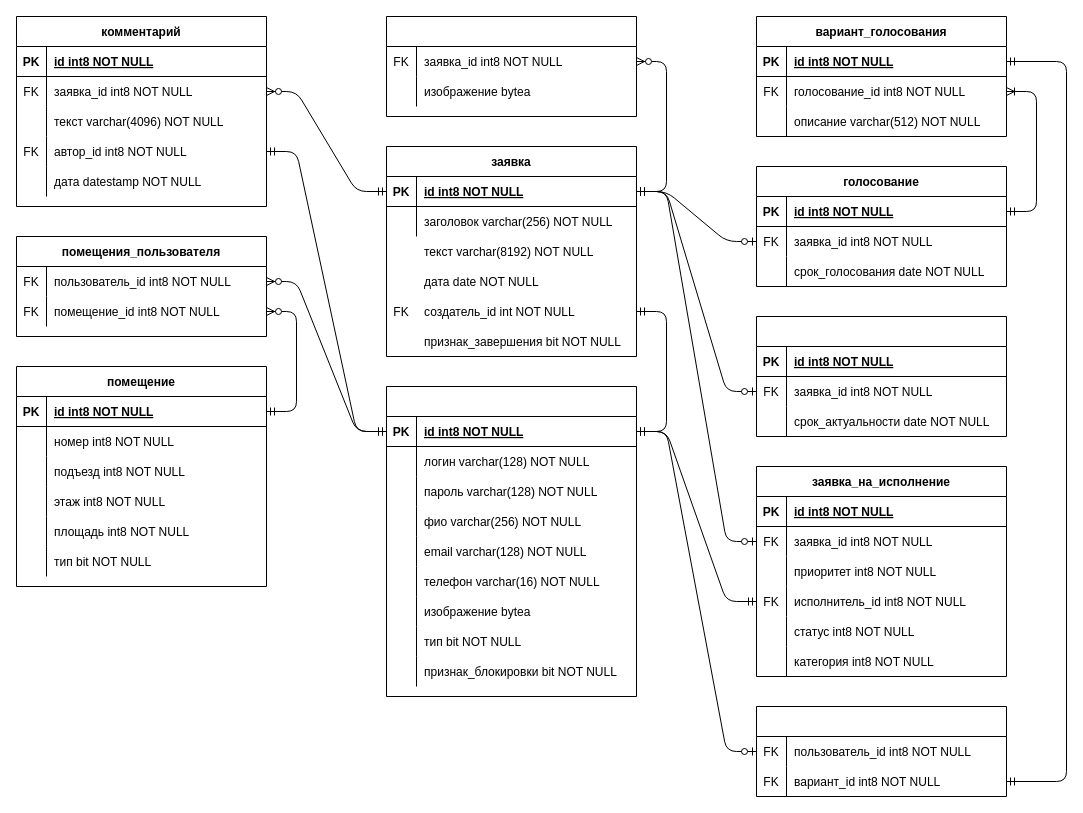
The diagram is 1083 pixels wide and 813 high, and some of its shapes have lost their labels. Here are the shapes that lost their labels. From the top down, the box of each, then its label:
(386, 16, 636, 116): изображения_заявки
(756, 316, 1006, 436): объявление
(386, 386, 636, 696): пользователь
(756, 706, 1006, 796): голос
